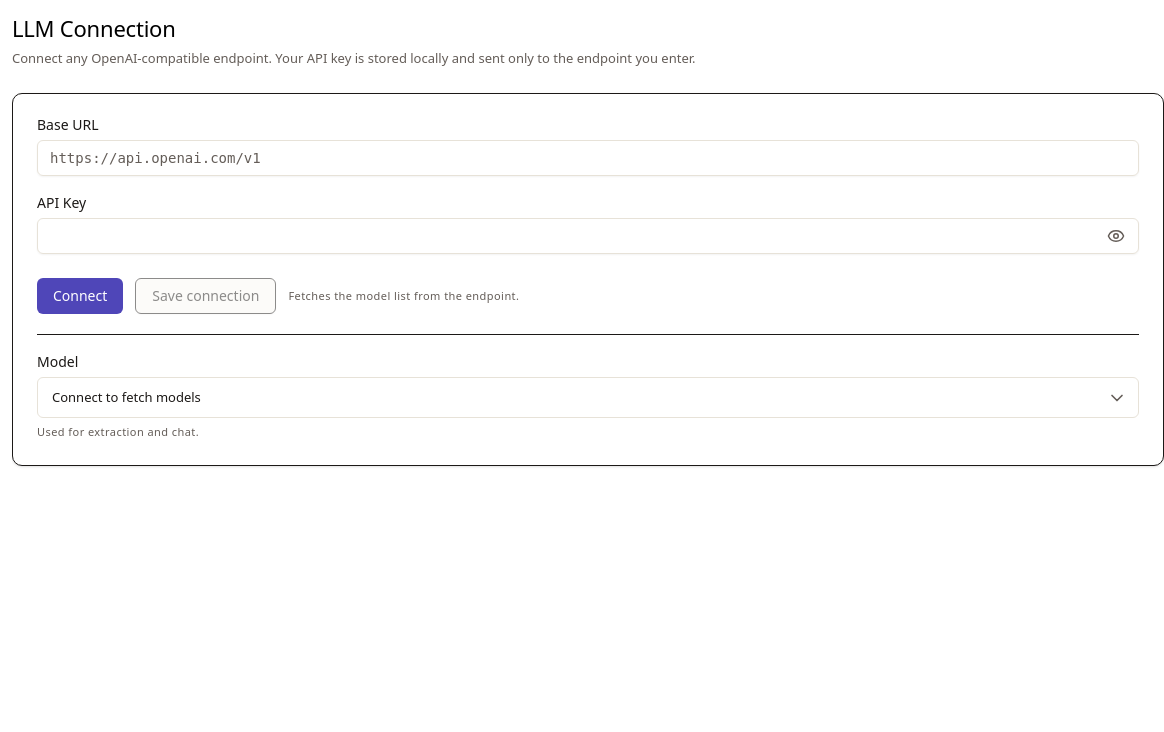
Test: Connection › connect asks for host permission first, and on denial shows an error and never fetches
Type "https://api.test/v1" into the field labelled "Base URL".
click(588, 158); type("https://api.test/v1")  # box x1=37 y1=140 x2=1139 y2=176
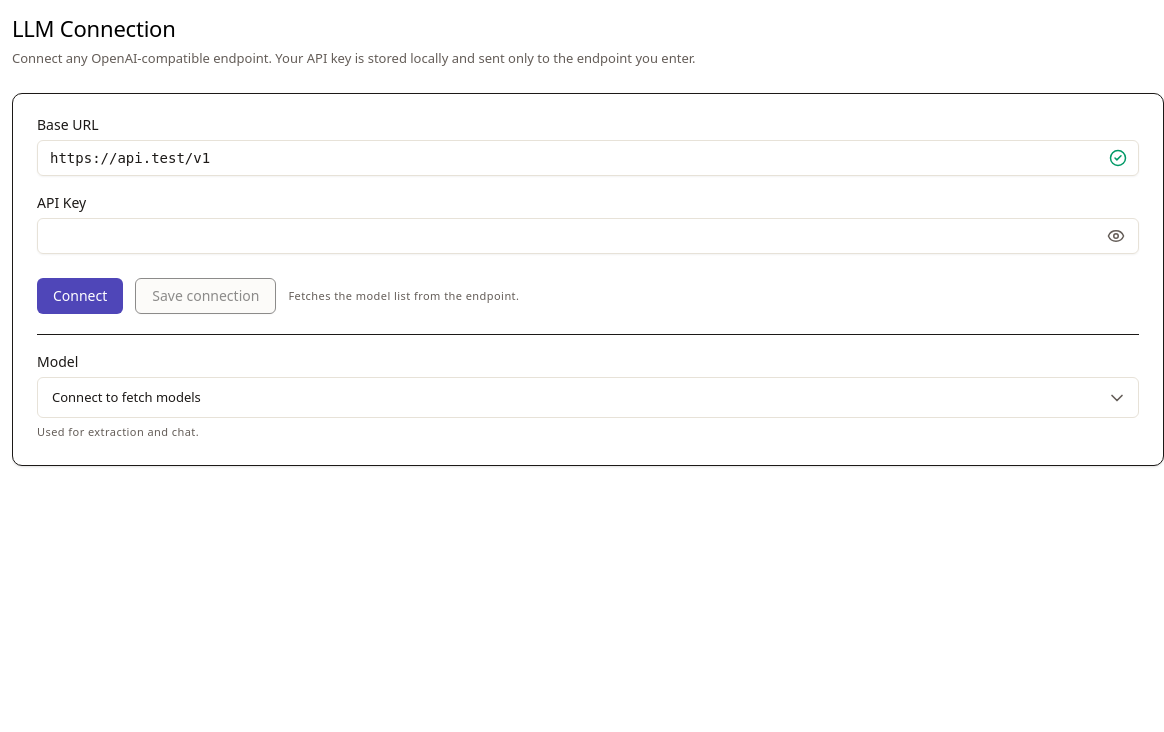
Type "sk-test" into the password field labelled "API Key".
click(588, 236); type("sk-test")  # box x1=37 y1=218 x2=1139 y2=254
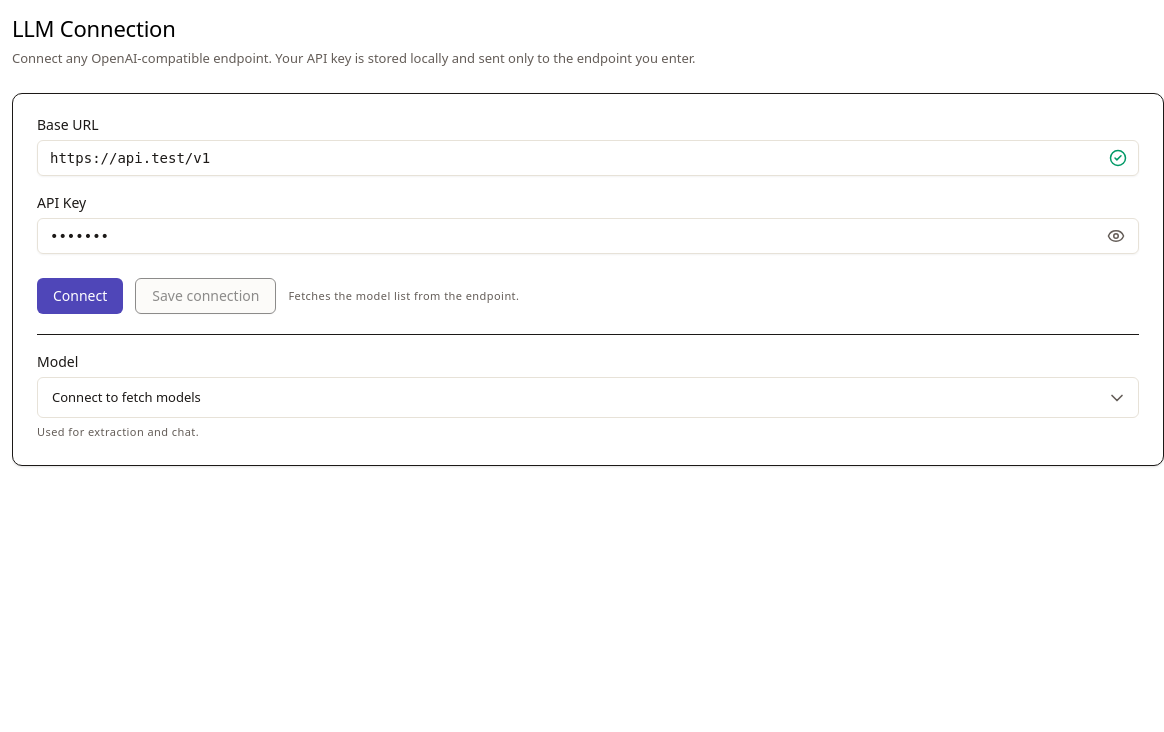
Click the button "Connect".
click(80, 296)  # box x1=37 y1=278 x2=123 y2=314
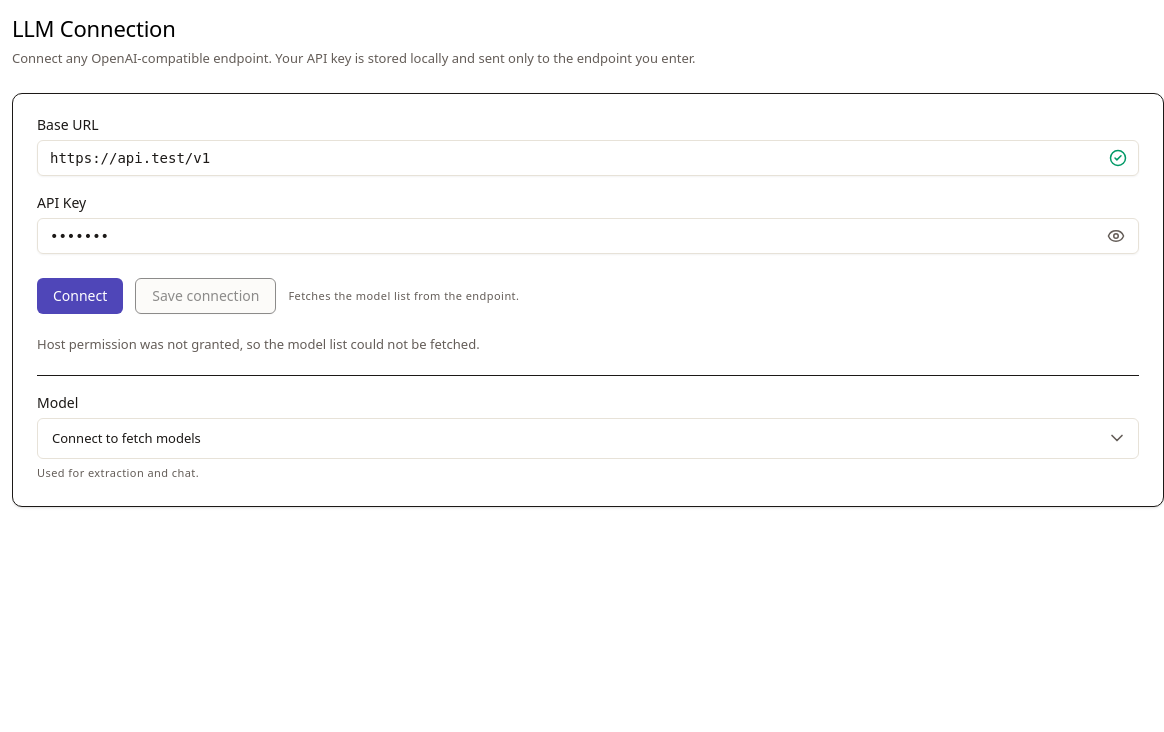
Now the text "Host permission was not granted, so the model list could not be fetched." is shown, box x1=37 y1=335 x2=480 y2=353
